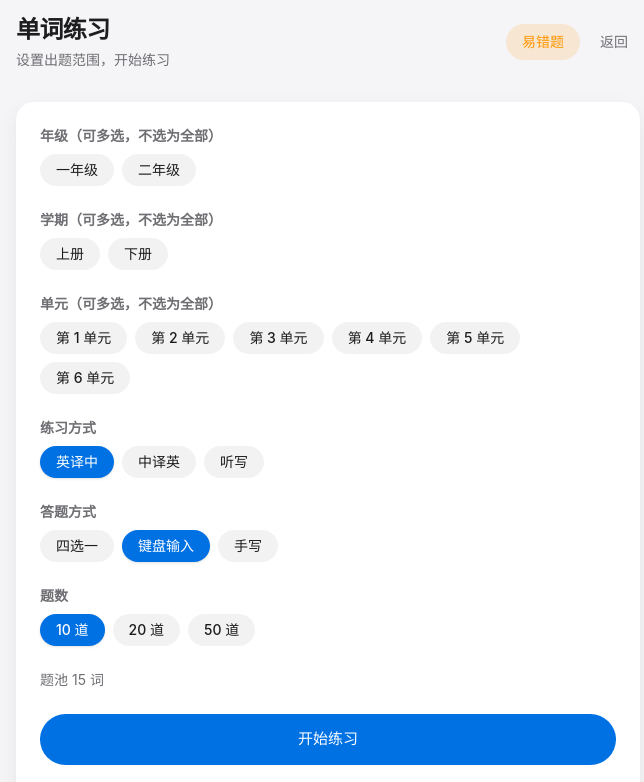
英译中输入全流程 (FR-ENG-01/06) › 题干下显示音标
Click the button with test id "start" at x=328, y=739, box [40,714,616,764]
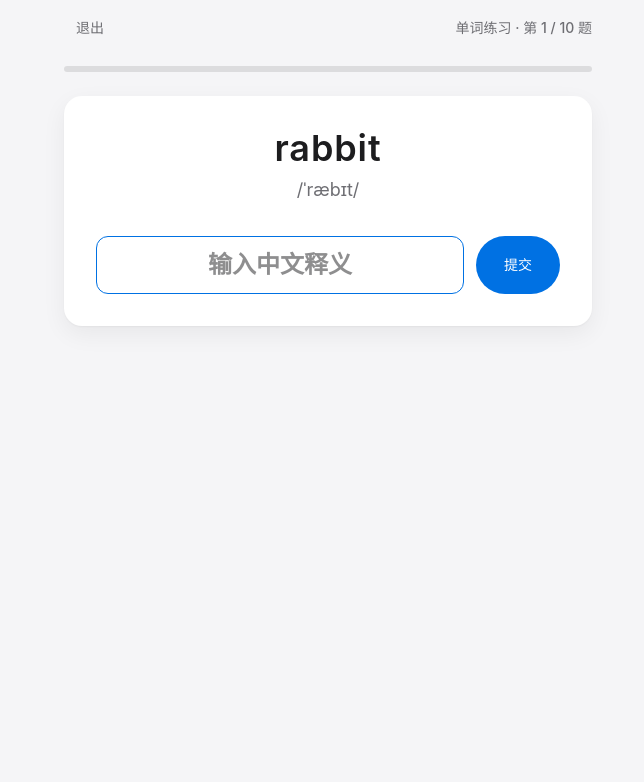
Now the text with test id "ipa-chip" reads "/ˈræbɪt/", box [297,179,359,200]
